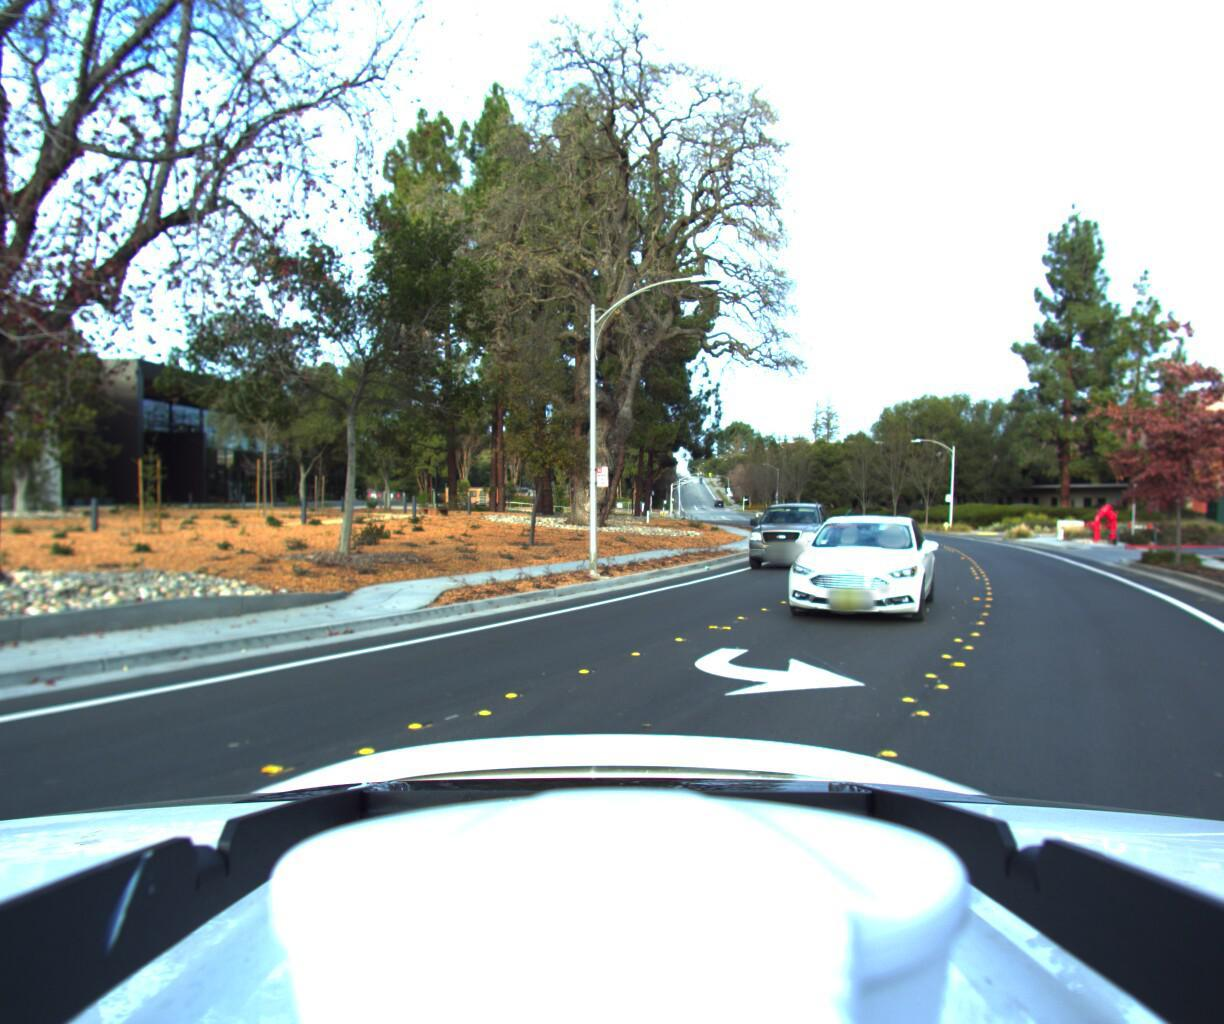car: (760, 505, 944, 639), (727, 493, 838, 575)
